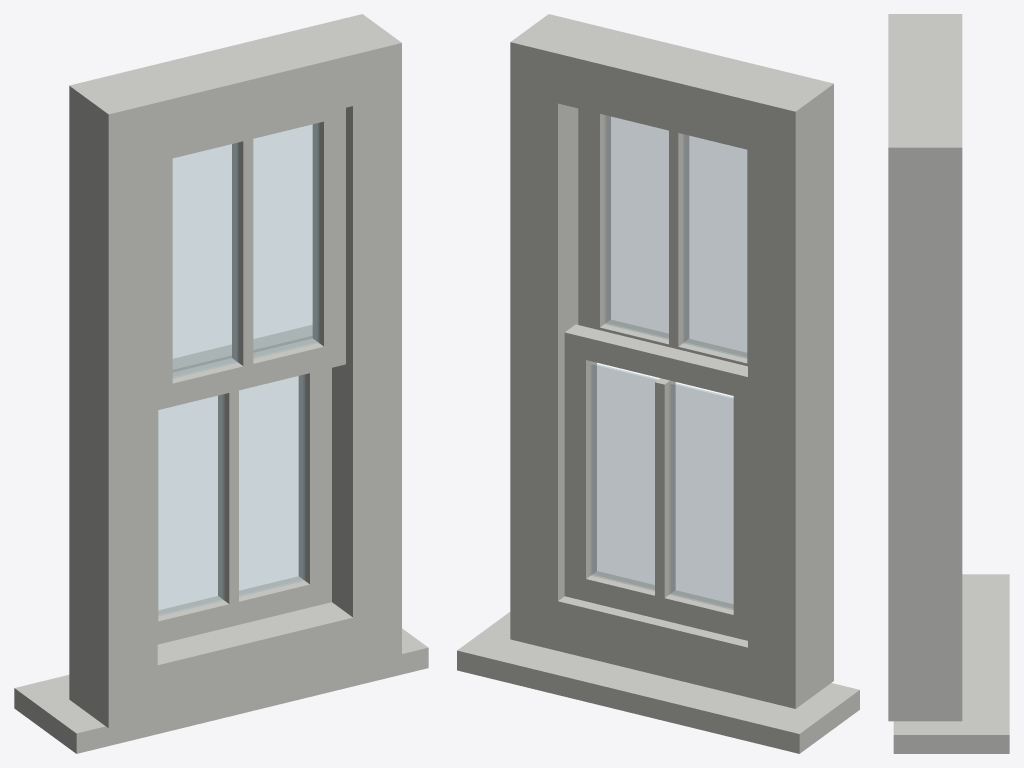
Rendered from opening.window.sash_600x1200.glb.
3 renders of one model, left to right at view 1: azimuth 30°, elevation 25°; view 2: azimuth 150°, elevation 25°; view 3: azimuth 270°, elevation 25°, orthographic. The views are drawn at different scales.
Visible parts, largest first — view 1: frame__paint_white, glazing__glass; view 2: frame__paint_white, glazing__glass; view 3: frame__paint_white.
Boxes of the visible parts, x1=… form: frame__paint_white: x1=14, y1=14, x2=428, y2=753; glazing__glass: x1=158, y1=123, x2=318, y2=615; frame__paint_white: x1=457, y1=14, x2=859, y2=753; glazing__glass: x1=591, y1=115, x2=746, y2=609; frame__paint_white: x1=888, y1=14, x2=1009, y2=753.
Size of the model in its own units: 0.72 by 1.24 by 0.23.
